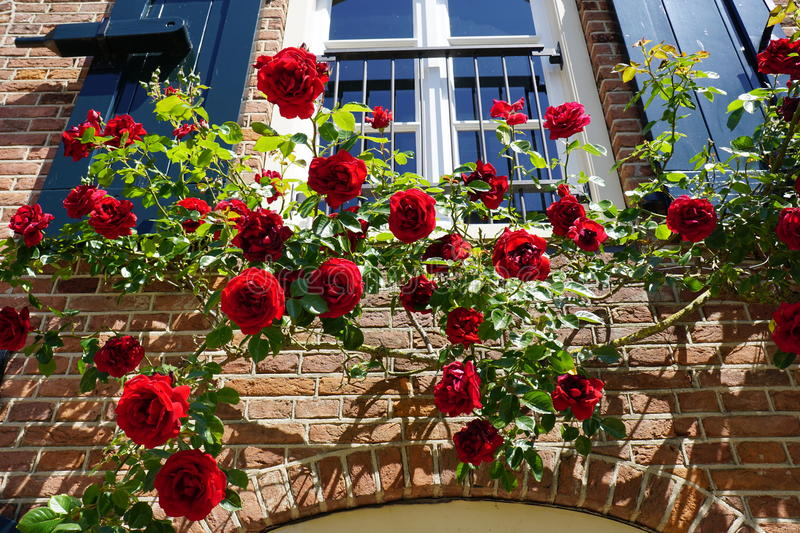RedRose: (148, 447, 234, 524), (111, 370, 196, 446), (254, 42, 332, 124), (213, 269, 290, 337), (302, 150, 374, 215), (225, 205, 299, 264), (310, 254, 377, 318), (494, 228, 558, 281), (430, 358, 485, 417), (551, 367, 608, 422), (94, 322, 148, 379), (48, 110, 106, 161), (385, 186, 438, 240), (453, 414, 502, 470), (0, 298, 41, 362), (660, 195, 716, 240), (6, 199, 53, 248), (755, 32, 800, 83), (460, 164, 508, 211), (86, 196, 140, 237), (445, 303, 491, 349), (542, 99, 592, 140), (769, 297, 800, 360), (397, 274, 439, 315), (547, 184, 586, 226), (566, 219, 615, 252), (429, 230, 470, 266), (108, 115, 150, 150), (491, 97, 531, 133), (60, 183, 103, 215), (175, 196, 205, 229), (781, 203, 800, 250), (371, 99, 397, 133), (212, 193, 245, 217), (260, 164, 280, 202), (169, 122, 196, 136), (163, 87, 177, 105)
